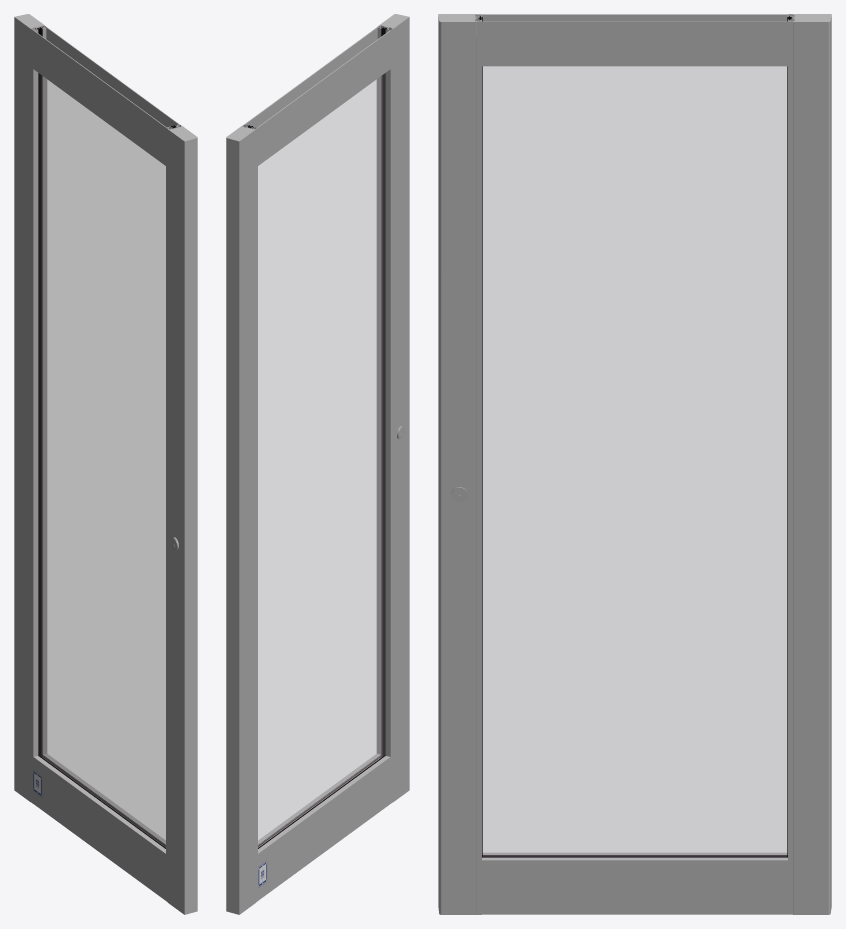
The model's file is D350_Slab_AL.glb.
3 views of the same model, side by side, from view 1: azimuth 30°, elevation 25°; view 2: azimuth 150°, elevation 25°; view 3: azimuth 270°, elevation 25° (orthographic). The views are drawn at different scales.
Visible parts, largest first — view 1: Cube.010, PROFILE_curve_.063, D350, PROFILE_curve_.062, PROFILE_curve_.061, rubber_curve_.063, rubber_curve_.064; view 2: Cube.010, D350, PROFILE_curve_.063, PROFILE_curve_.062, PROFILE_curve_.061, rubber_curve_.061, rubber_curve_.062; view 3: Cube.010, D350, PROFILE_curve_.063, PROFILE_curve_.062, PROFILE_curve_.061, rubber_curve_.061, rubber_curve_.063.
Boxes of the visible parts, box(x1,y1,x2,y2) form: Cube.010: box(38, 73, 165, 847); PROFILE_curve_.063: box(166, 124, 197, 914); D350: box(14, 14, 47, 803); PROFILE_curve_.062: box(33, 754, 165, 900); PROFILE_curve_.061: box(33, 27, 178, 165); rubber_curve_.063: box(39, 27, 42, 757); rubber_curve_.064: box(36, 28, 39, 755); Cube.010: box(258, 73, 385, 847); D350: box(226, 124, 257, 914); PROFILE_curve_.063: box(376, 14, 409, 803); PROFILE_curve_.062: box(258, 754, 390, 900); PROFILE_curve_.061: box(245, 27, 390, 165); rubber_curve_.061: box(381, 27, 384, 757); rubber_curve_.062: box(384, 28, 387, 755); Cube.010: box(483, 66, 786, 857); D350: box(788, 14, 831, 914); PROFILE_curve_.063: box(438, 14, 481, 914); PROFILE_curve_.062: box(482, 852, 787, 914); PROFILE_curve_.061: box(482, 14, 787, 66); rubber_curve_.061: box(478, 18, 482, 857); rubber_curve_.063: box(787, 18, 791, 857).
Bounding box in the file's own units: 0.054 × 2.29 × 0.9149.
Materials: 5 (1 with a texture image).
